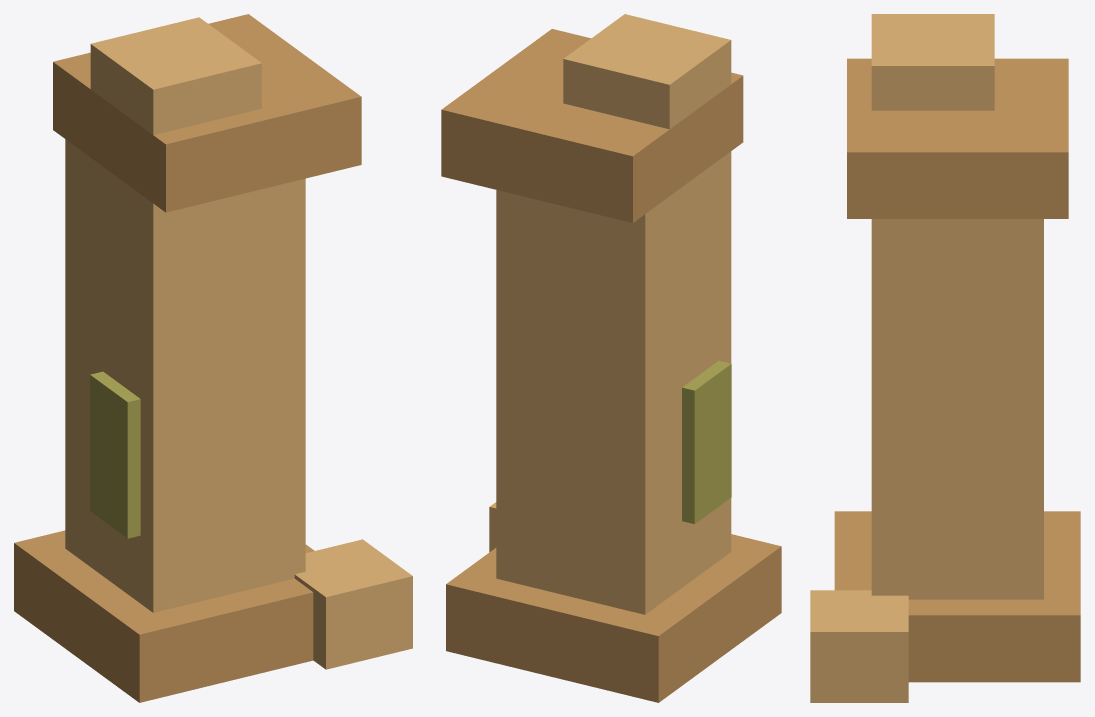
The model's file is SandstonePillar.glb.
The picture shows the model from 3 angles, left to right: view 1: azimuth 30°, elevation 25°; view 2: azimuth 150°, elevation 25°; view 3: azimuth 270°, elevation 25°; orthographic projection. The views are drawn at different scales.
Visible parts, largest first — view 1: SandstonePillar; view 2: SandstonePillar; view 3: SandstonePillar.
Part boxes in pixels (x1=…): SandstonePillar: x1=14, y1=14, x2=412, y2=702; SandstonePillar: x1=441, y1=14, x2=781, y2=702; SandstonePillar: x1=810, y1=14, x2=1080, y2=702.
Size of the model in its own units: 6 by 13 by 5.5.
Materials: 1 (1 with a texture image).
